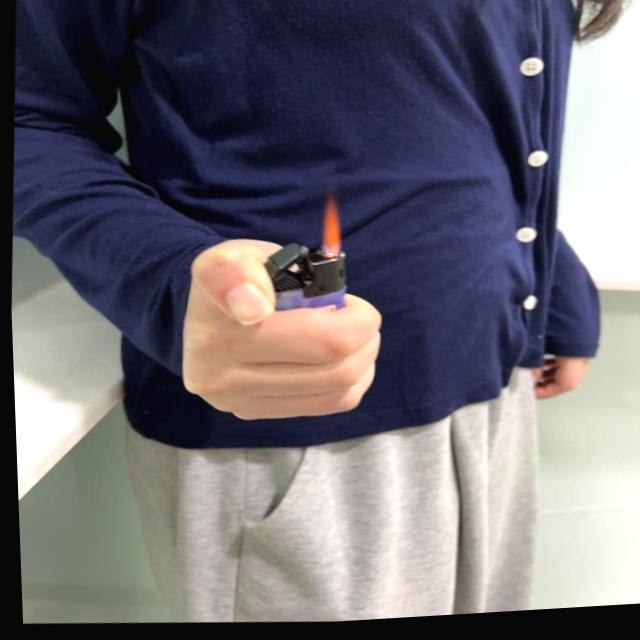Fire: (317, 200, 345, 262)
